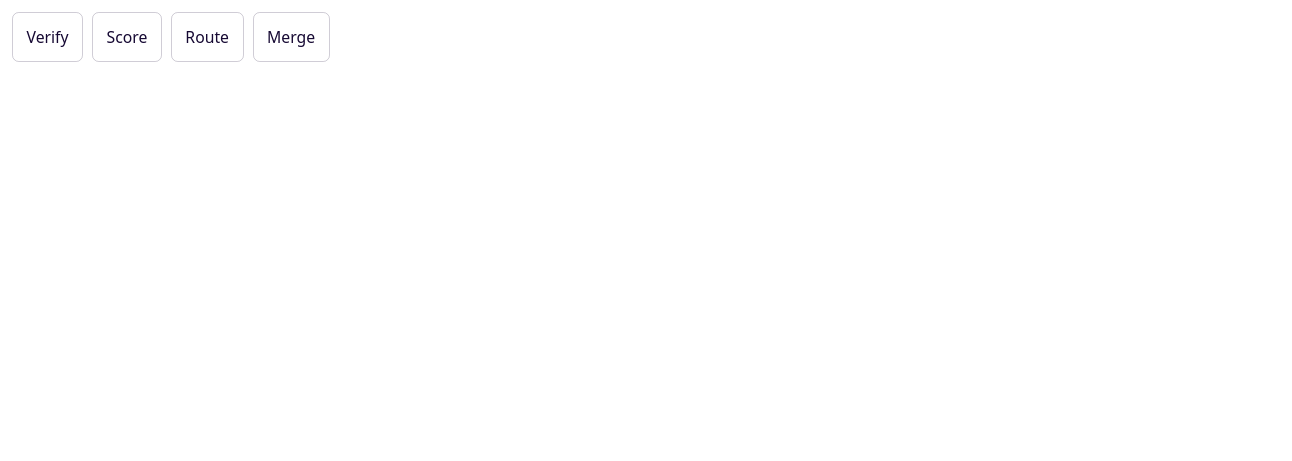
Test case: CandidateActionPanel › switching actions clears the previous action’s panel
Click the button "Verify" at coordinates (48, 37), box [12,12,83,62]
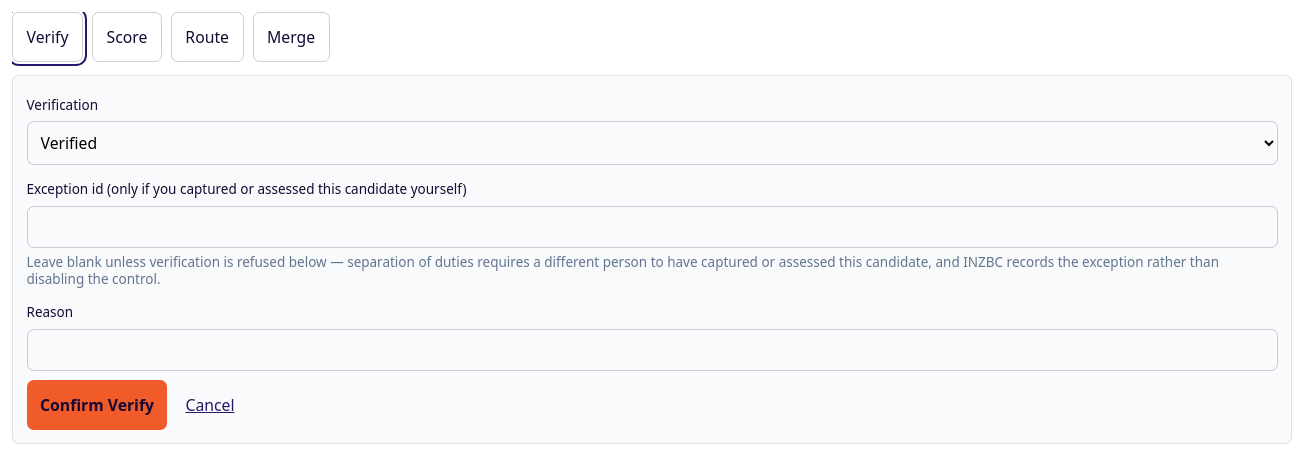
Expected: the dropdown labelled "Verification" is shown, [26,121,1278,165]
Click the button "Score" at coordinates (127, 37), box [92,12,162,62]
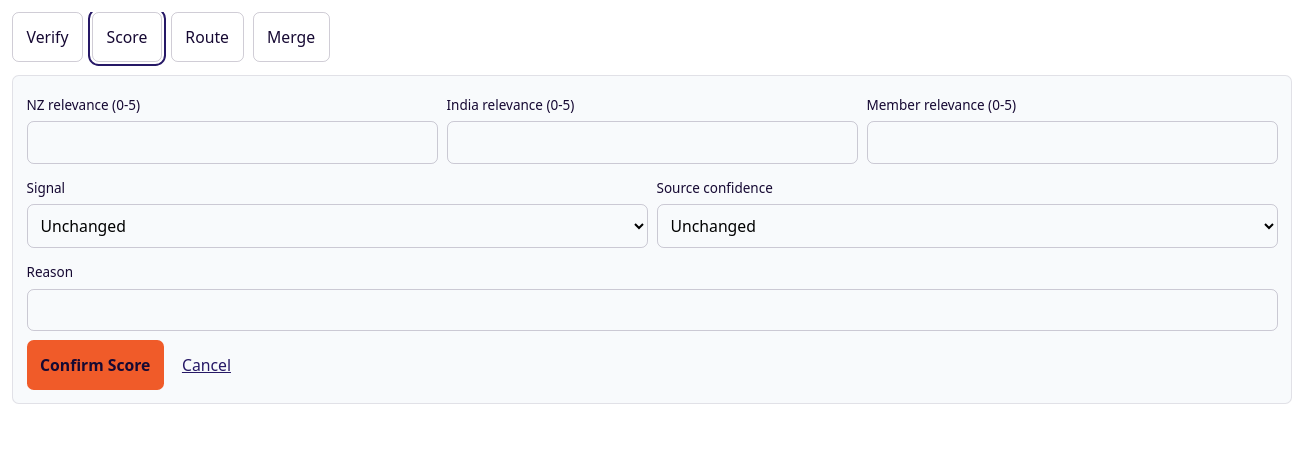
Expected: the label labelled "Verification" is gone
Expected: the number field labelled "NZ relevance (0-5)" is shown, [26,121,438,164]
